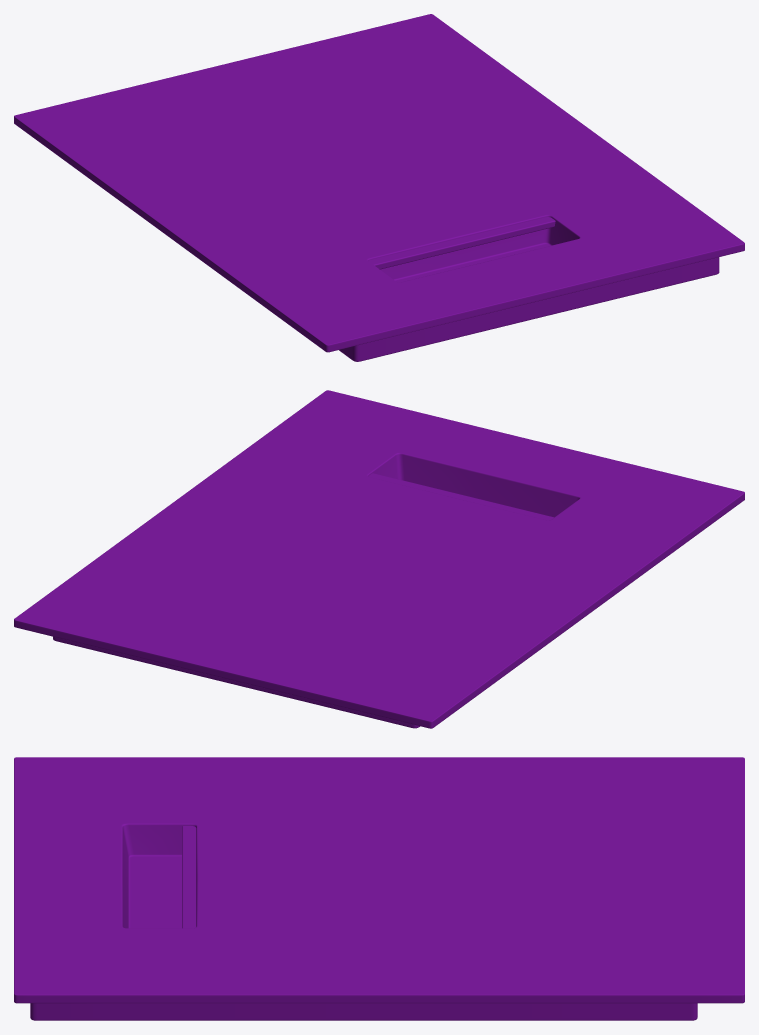
The model's file is SM_Kaffeemaschine_BohnenDeckel.fbx.
3 views of the same model, one above another, from view 1: azimuth 30°, elevation 25°; view 2: azimuth 150°, elevation 25°; view 3: azimuth 270°, elevation 25° (orthographic). The views are drawn at different scales.
Visible parts, largest first — view 1: SM_Kaffeemaschine_BohnenDeckel; view 2: SM_Kaffeemaschine_BohnenDeckel; view 3: SM_Kaffeemaschine_BohnenDeckel.
Boxes of the visible parts, <box> form: SM_Kaffeemaschine_BohnenDeckel: <box>14,14,744,361</box>; SM_Kaffeemaschine_BohnenDeckel: <box>14,390,744,728</box>; SM_Kaffeemaschine_BohnenDeckel: <box>14,757,744,1020</box>.
Size of the model in its own units: 18.58 by 1.32 by 24.12.
